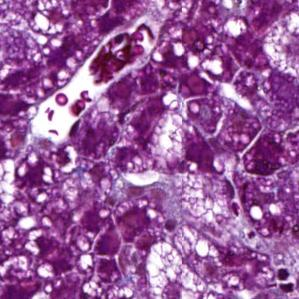ballooning: (109, 97, 191, 189), (142, 242, 208, 297)
